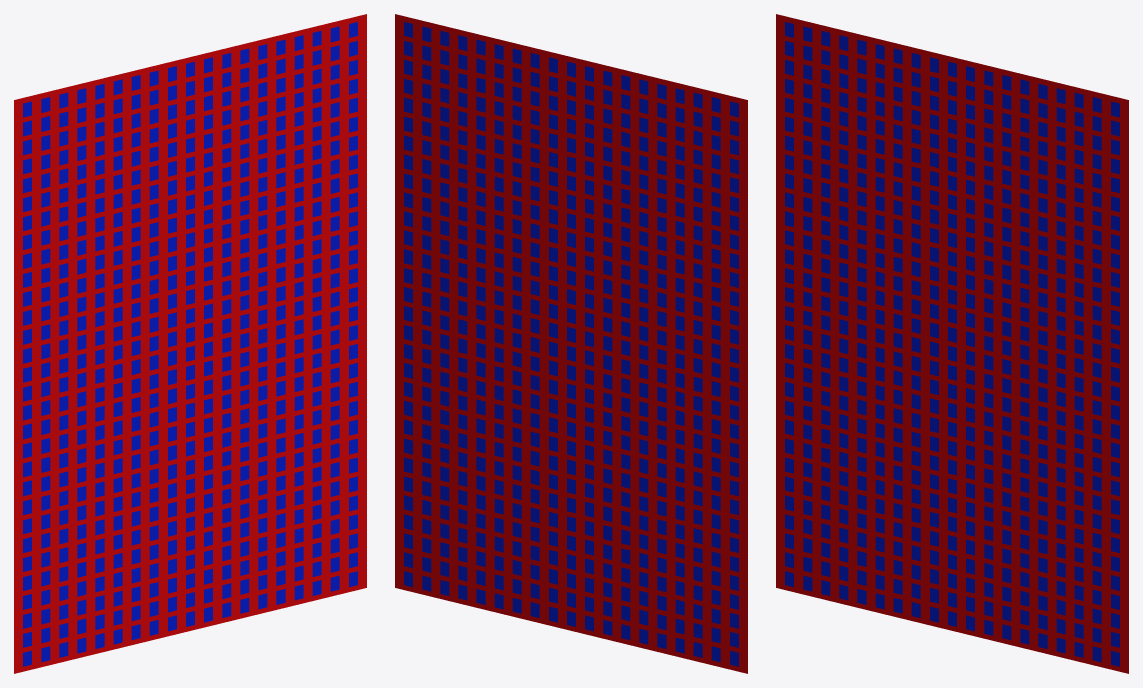
The model's file is ScrapperV2.fbx.
3 views of the same model, side by side, from view 1: azimuth 30°, elevation 25°; view 2: azimuth 150°, elevation 25°; view 3: azimuth 330°, elevation 25° (orthographic).
Visible parts, largest first — view 1: Plane; view 2: Plane; view 3: Plane.
Boxes of the visible parts, box(x1,y1,x2,y2) form: Plane: box(14, 14, 366, 673); Plane: box(395, 14, 747, 673); Plane: box(776, 14, 1128, 673).
Bounding box in the file's own units: 3900 × 6060 × 0.000589.
